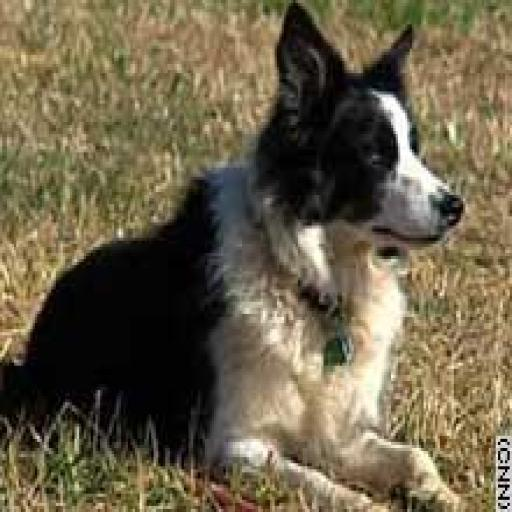dog_face: (270, 14, 463, 258)
